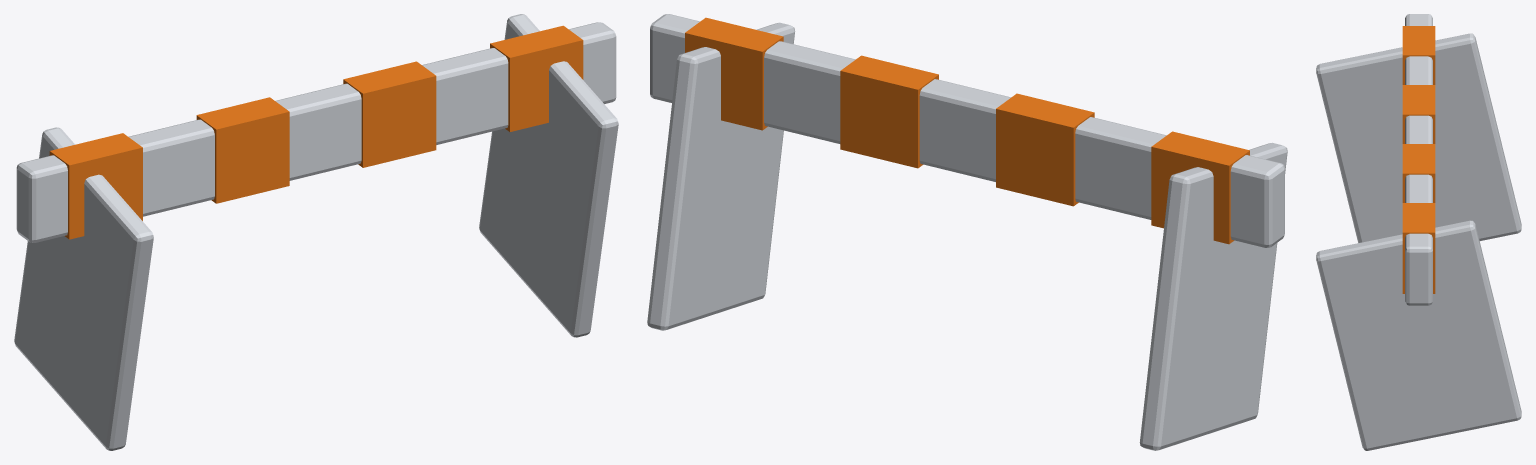
The model's file is prop_barrier.glb.
The picture shows the model from 3 angles, left to right: view 1: azimuth 30°, elevation 25°; view 2: azimuth 150°, elevation 25°; view 3: azimuth 270°, elevation 25°; orthographic projection. The views are drawn at different scales.
Parts seen in each view (by area): view 1: Plank, LegA_0, LegA_1, Stripe_2, Stripe_1, Stripe_3, Stripe_0; view 2: Plank, LegA_0, LegA_1, Stripe_2, Stripe_1, Stripe_3, Stripe_0; view 3: LegA_1, LegA_0, Plank, Stripe_3, Stripe_2, Stripe_0, Stripe_1.
Boxes of the visible parts, x1,y1,x2,y2 form: Plank: (16,22,616,242); LegA_0: (14,127,153,450); LegA_1: (479,14,618,337); Stripe_2: (343,61,436,167); Stripe_1: (196,97,289,203); Stripe_3: (490,25,583,131); Stripe_0: (49,133,142,239); Plank: (650,14,1284,247); LegA_0: (1139,142,1287,450); LegA_1: (647,22,795,330); Stripe_2: (840,55,938,168); Stripe_1: (996,93,1094,206); Stripe_3: (685,17,783,130); Stripe_0: (1151,131,1249,244); LegA_1: (1316,220,1521,450); LegA_0: (1316,33,1521,242); Plank: (1405,14,1432,305); Stripe_3: (1402,203,1435,293); Stripe_2: (1402,144,1435,202); Stripe_0: (1402,26,1435,84); Stripe_1: (1402,85,1435,143).
Bounding box in the file's own units: 2.4 × 1.07 × 0.8817.
